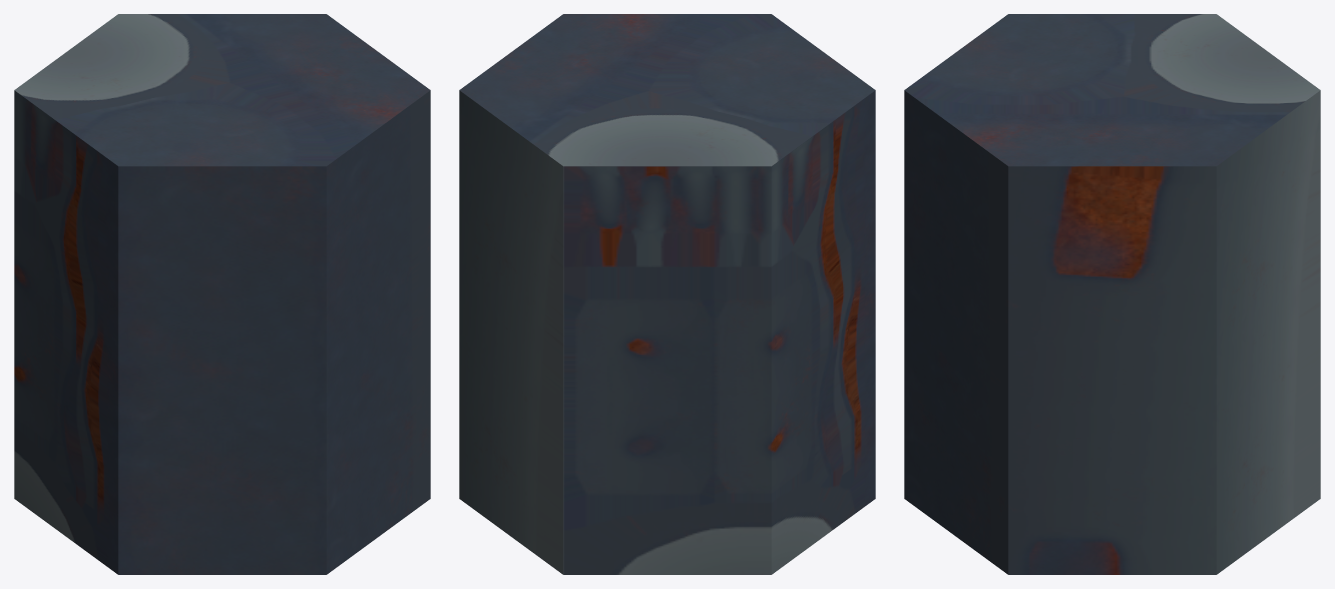
Rendered from sb_obj_indoor002_IronPot01a_col.fbx.
3 views of the same model, side by side, from view 1: azimuth 30°, elevation 25°; view 2: azimuth 150°, elevation 25°; view 3: azimuth 270°, elevation 25° (orthographic).
Parts seen in each view (by area): view 1: sb_obj_indoor002_IronPot01a_col; view 2: sb_obj_indoor002_IronPot01a_col; view 3: sb_obj_indoor002_IronPot01a_col.
Boxes of the visible parts, x1,y1,x2,y2 form: sb_obj_indoor002_IronPot01a_col: (14, 14, 430, 574); sb_obj_indoor002_IronPot01a_col: (459, 14, 875, 574); sb_obj_indoor002_IronPot01a_col: (904, 14, 1320, 574).
Size of the model in its own units: 0.3329 by 0.4163 by 0.3844.
